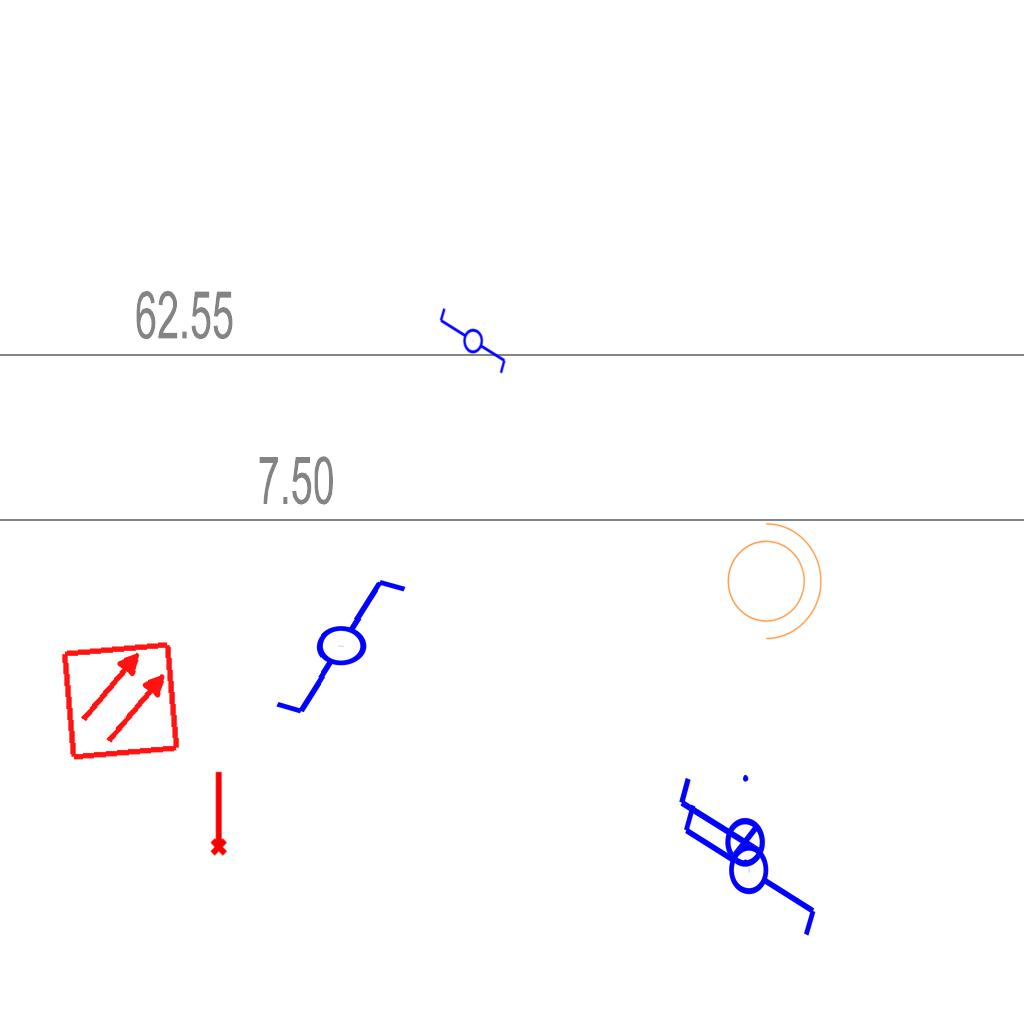ASR_Ansaugoeffnung: (206, 769, 229, 857)
Ausschalter_beleuchtet: (671, 769, 767, 881)
RMO_Rauchmelder_optischer: (59, 639, 182, 762)
Scheinwerfer_fuer_Alarmbeleuchtung: (715, 512, 827, 644)
Wechselschalter: (269, 574, 430, 722), (679, 783, 823, 940), (436, 306, 508, 384)
